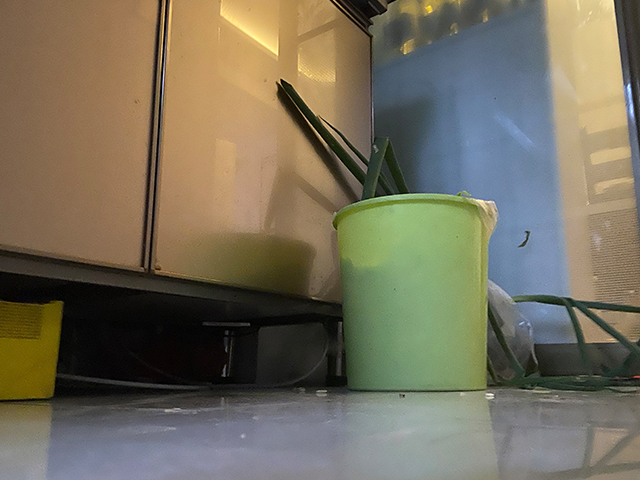cabinet: (1, 1, 396, 388)
trashcan: (330, 192, 499, 394)
wire: (55, 319, 330, 391)
